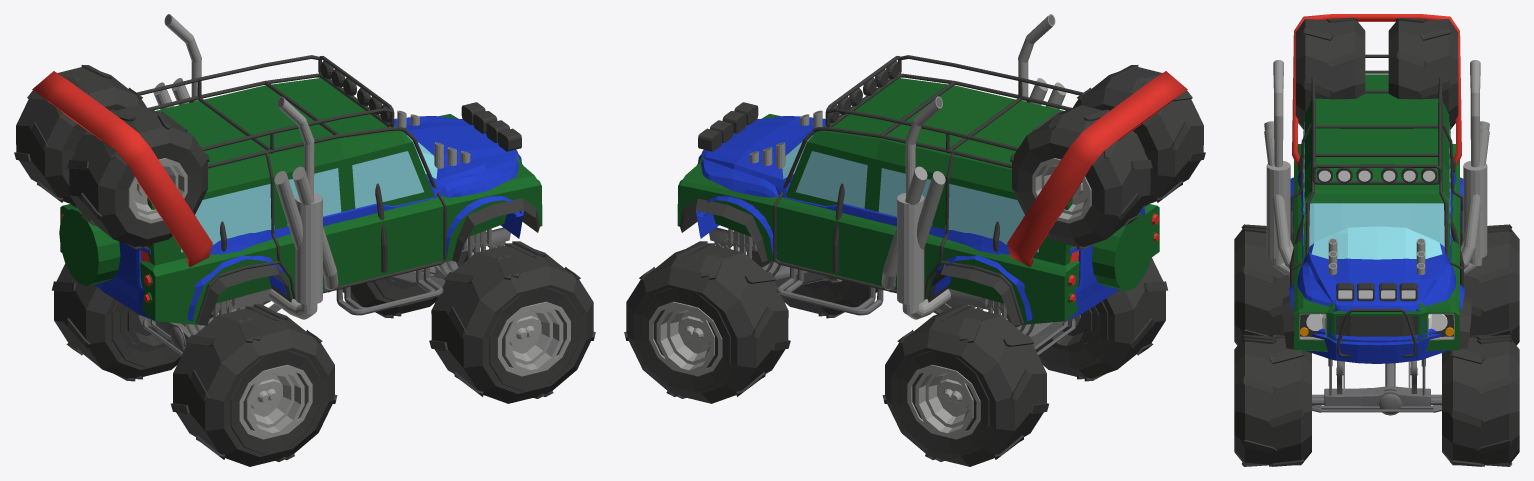
Rendered from Car_Factory_Monster_Trucks.fbx.
The picture shows the model from 3 angles, left to right: view 1: azimuth 30°, elevation 25°; view 2: azimuth 150°, elevation 25°; view 3: azimuth 270°, elevation 25°; orthographic projection. The views are drawn at different scales.
Visible parts, largest first — view 1: Land_Rover_Defender, Ford_Raptor, Ford_Raptor_Rear_Tires, Ford_Raptor_Front_Tire_Right, Land_Rover_Tire.004, Land_Rover_Front_Tire_Right, Ford_Raptor_Front_Tire_Left, Land_Rover_Front_Tire_Left; view 2: Land_Rover_Defender, Ford_Raptor, Ford_Raptor_Rear_Tires, Ford_Raptor_Front_Tire_Left, Land_Rover_Tire.004, Land_Rover_Front_Tire_Left, Ford_Raptor_Front_Tire_Right, Land_Rover_Front_Tire_Right; view 3: Land_Rover_Defender, Ford_Raptor, Land_Rover_Tire.004, Land_Rover_Front_Tire_Left, Land_Rover_Front_Tire_Right, Ford_Raptor_Front_Tire_Left, Ford_Raptor_Front_Tire_Right.
Boxes of the visible parts, x1=… form: Land_Rover_Defender: x1=59, y1=14, x2=542, y2=349; Ford_Raptor: x1=14, y1=65, x2=523, y2=355; Ford_Raptor_Rear_Tires: x1=51, y1=263, x2=320, y2=466; Ford_Raptor_Front_Tire_Right: x1=429, y1=243, x2=579, y2=403; Land_Rover_Tire.004: x1=111, y1=301, x2=337, y2=459; Land_Rover_Front_Tire_Right: x1=484, y1=241, x2=595, y2=396; Ford_Raptor_Front_Tire_Left: x1=342, y1=262, x2=456, y2=318; Land_Rover_Front_Tire_Left: x1=373, y1=249, x2=473, y2=316; Land_Rover_Defender: x1=677, y1=14, x2=1159, y2=349; Ford_Raptor: x1=696, y1=65, x2=1205, y2=355; Ford_Raptor_Rear_Tires: x1=899, y1=257, x2=1167, y2=466; Ford_Raptor_Front_Tire_Left: x1=640, y1=243, x2=790, y2=403; Land_Rover_Tire.004: x1=882, y1=301, x2=1108, y2=459; Land_Rover_Front_Tire_Left: x1=624, y1=241, x2=735, y2=396; Ford_Raptor_Front_Tire_Right: x1=763, y1=260, x2=877, y2=318; Land_Rover_Front_Tire_Right: x1=746, y1=249, x2=846, y2=316; Land_Rover_Defender: x1=1266, y1=54, x2=1487, y2=415; Ford_Raptor: x1=1264, y1=14, x2=1489, y2=409; Land_Rover_Tire.004: x1=1234, y1=227, x2=1519, y2=345; Land_Rover_Front_Tire_Left: x1=1442, y1=338, x2=1519, y2=466; Land_Rover_Front_Tire_Right: x1=1234, y1=338, x2=1311, y2=466; Ford_Raptor_Front_Tire_Left: x1=1449, y1=334, x2=1519, y2=356; Ford_Raptor_Front_Tire_Right: x1=1234, y1=334, x2=1304, y2=356.
Size of the model in its own units: 0.8106 by 0.5751 by 0.49.
Materials: 2 (1 with a texture image).
